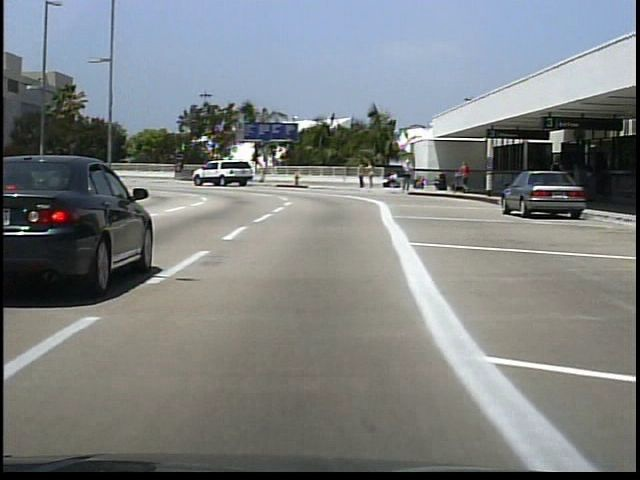person: (547, 154, 568, 206), (459, 160, 474, 193), (404, 158, 416, 195), (358, 162, 369, 191), (368, 161, 377, 191)
